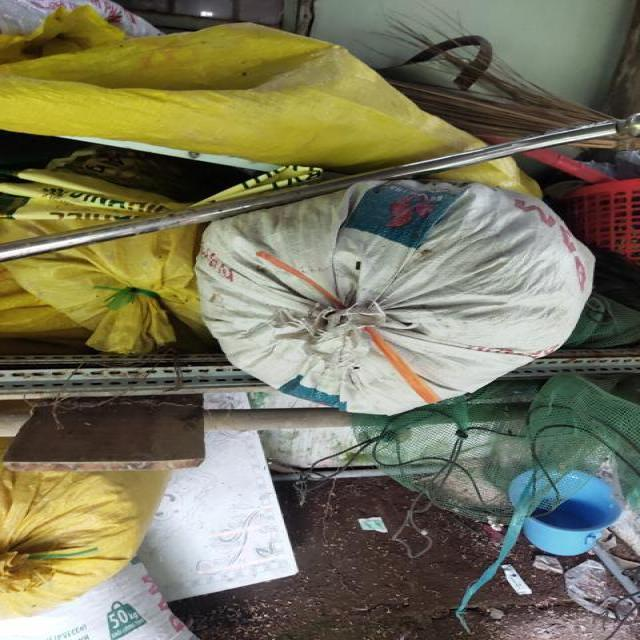gunny_bag: (195, 180, 596, 416)
